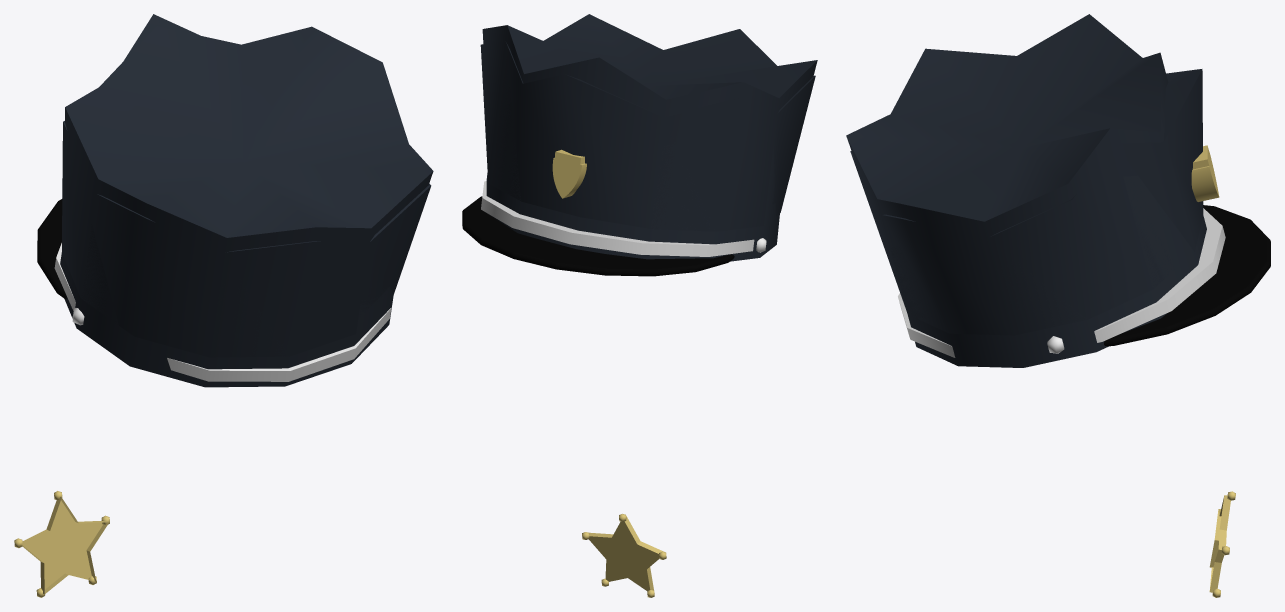
Rendered from Police_Stuff.fbx.
3 renders of one model, left to right at view 1: azimuth 30°, elevation 25°; view 2: azimuth 150°, elevation 25°; view 3: azimuth 270°, elevation 25°, orthographic. The views are drawn at different scales.
Visible parts, largest first — view 1: Zylinder_3, Zylinder_2, Kugel_5, Zylinder_4, Zylinder; view 2: Zylinder_2, Zylinder_3, Zylinder, Zylinder_4, Kugel_5, Wappen_1; view 3: Zylinder_3, Zylinder_2, Zylinder, Zylinder_4, Kugel_5, Wappen_1.
Part boxes in pixels (left/top/right/bottom): Zylinder_3: left=65, top=26, right=433, bottom=338; Zylinder_2: left=60, top=14, right=431, bottom=387; Kugel_5: left=14, top=491, right=109, bottom=597; Zylinder_4: left=54, top=243, right=391, bottom=381; Zylinder: left=37, top=199, right=66, bottom=299; Zylinder_2: left=480, top=41, right=815, bottom=261; Zylinder_3: left=482, top=14, right=817, bottom=214; Zylinder: left=462, top=196, right=734, bottom=276; Zylinder_4: left=481, top=181, right=766, bottom=256; Kugel_5: left=582, top=514, right=666, bottom=597; Wappen_1: left=552, top=149, right=586, bottom=198; Zylinder_3: left=846, top=14, right=1168, bottom=317; Zylinder_2: left=850, top=69, right=1206, bottom=367; Zylinder: left=1104, top=205, right=1270, bottom=346; Zylinder_4: left=898, top=208, right=1225, bottom=357; Kugel_5: left=1209, top=491, right=1235, bottom=597; Wappen_1: left=1191, top=145, right=1219, bottom=201.
Bounding box in the file's own units: 227 × 393 × 269.
